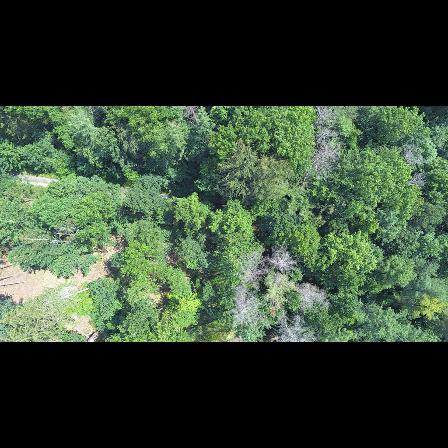Dead: (287, 280, 330, 312), (231, 288, 261, 329), (274, 316, 317, 342), (402, 142, 424, 186), (234, 256, 263, 289), (269, 246, 300, 275), (301, 149, 332, 178), (309, 106, 335, 130)
